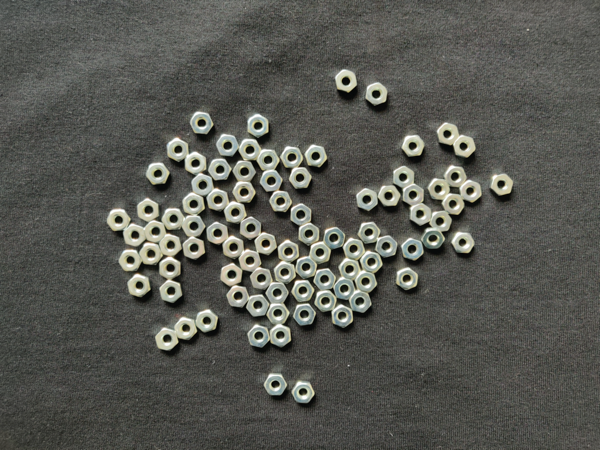nut: (127, 274, 151, 298), (107, 209, 132, 232), (146, 163, 171, 186), (123, 224, 146, 248), (166, 138, 189, 162), (159, 280, 183, 303), (264, 373, 288, 396), (292, 381, 315, 405), (206, 189, 230, 212), (356, 188, 379, 212), (366, 82, 388, 107), (137, 199, 160, 222), (155, 328, 178, 351), (175, 317, 198, 340), (216, 134, 239, 157), (250, 267, 273, 290), (323, 227, 346, 250), (355, 271, 378, 294), (396, 268, 419, 291), (392, 166, 415, 189), (437, 123, 460, 146), (453, 135, 476, 158), (119, 250, 143, 272), (190, 112, 214, 134), (223, 236, 245, 260), (401, 135, 425, 157), (490, 174, 514, 196), (140, 243, 163, 265), (196, 310, 218, 333), (159, 235, 182, 257), (183, 237, 205, 260), (183, 193, 205, 216), (192, 174, 214, 197), (207, 222, 229, 245), (248, 325, 270, 348), (270, 325, 292, 348), (227, 286, 250, 308), (221, 264, 243, 287), (224, 202, 247, 224), (239, 139, 262, 161), (247, 295, 270, 317), (239, 250, 262, 272), (240, 217, 262, 240), (255, 233, 277, 256), (274, 262, 296, 285), (278, 241, 300, 264), (293, 304, 316, 326), (281, 146, 303, 169), (289, 167, 312, 189), (305, 145, 328, 167), (309, 242, 332, 264), (315, 290, 337, 313), (332, 305, 354, 328), (360, 252, 383, 274), (402, 239, 424, 262), (410, 203, 432, 226), (444, 166, 467, 188), (460, 180, 482, 203), (162, 209, 186, 230), (182, 216, 206, 237), (185, 152, 206, 176), (208, 159, 232, 180), (233, 161, 257, 182), (248, 114, 269, 138), (260, 171, 284, 192), (291, 281, 315, 302), (291, 203, 312, 227), (422, 228, 446, 249), (144, 221, 166, 243), (258, 149, 280, 171), (295, 257, 317, 279), (314, 269, 336, 291), (339, 259, 361, 281), (343, 239, 365, 261), (376, 236, 398, 258), (233, 182, 256, 203), (267, 304, 290, 325), (266, 283, 289, 304), (270, 192, 293, 213), (336, 70, 357, 93), (299, 223, 320, 246), (334, 278, 355, 301), (350, 291, 371, 314), (358, 223, 381, 244), (378, 186, 401, 207), (430, 211, 453, 232), (427, 179, 450, 200), (442, 194, 465, 215), (452, 233, 475, 254), (160, 258, 181, 280), (403, 184, 424, 206)
